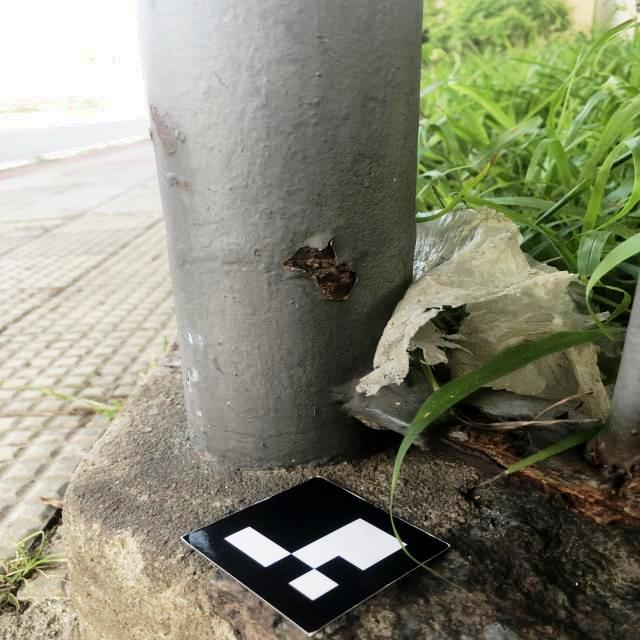Corrosion: (434, 404, 640, 530), (280, 235, 360, 303), (148, 100, 176, 154), (171, 177, 192, 188), (549, 411, 570, 420), (149, 126, 153, 144)
